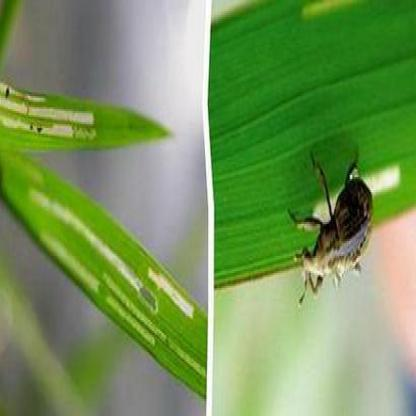rice-bug: (297, 148, 376, 300)
